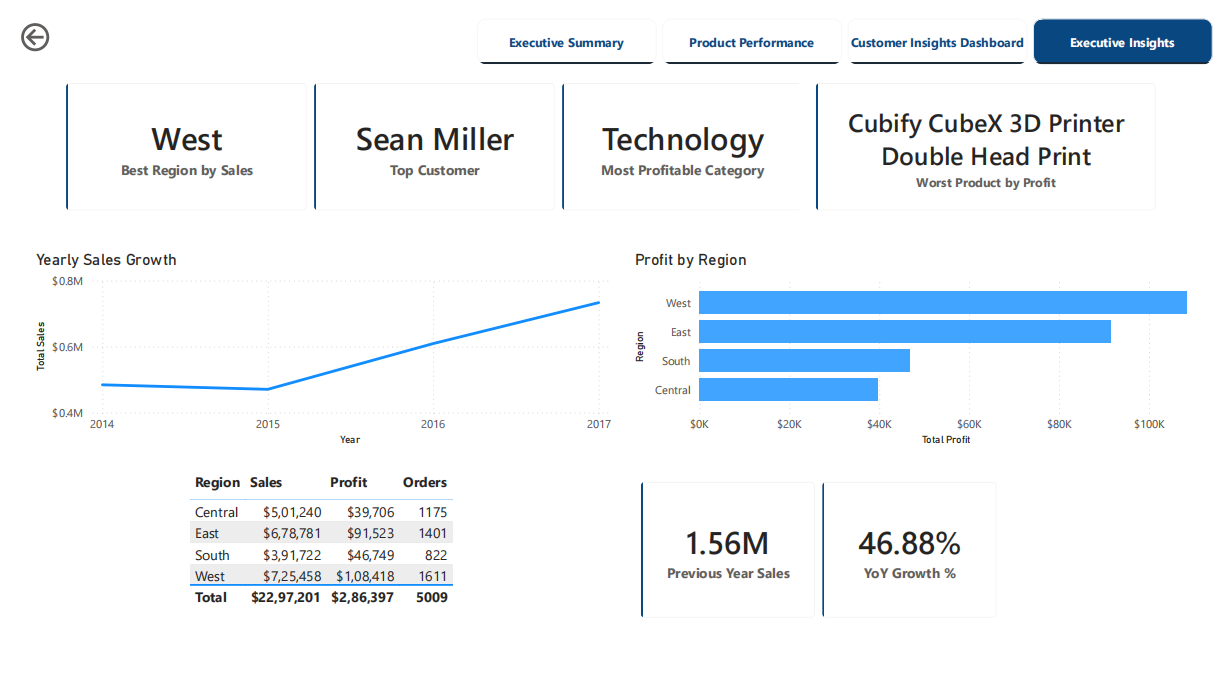

This screenshot's page, from the dashboard's own definition file:
{"tool":"powerbi","page":{"name":"Executive Insights","canvas":[1280,720],"ordinal":3},"visuals":[{"type":"cardVisual","fields":{"Data":["Orders.Best Region by Sales","Orders.Top Customers","Orders.Most Profitable Category"]},"box":[35.7,52.1,822,170.2],"z":0},{"type":"cardVisual","fields":{"Data":["Orders.Worst Product by Profit"]},"box":[837.1,52.1,397.9,170.2],"z":1000},{"type":"lineChart","title":"Yearly Sales Growth","fields":{"Category":["Date Table.Year"],"Y":["Orders.Total Sales"]},"box":[15.7,247.1,624.3,214.3],"z":2000},{"type":"barChart","title":"Profit by Region","fields":{"Category":["Regions.Region"],"Y":["Orders.Total Profit"]},"box":[655.9,247,624.4,214.1],"z":3000},{"type":"tableEx","fields":{"Values":["Regions.Region","Orders.Total Sales","Orders.Total Profit","Orders.Total Orders"]},"box":[179.8,477.5,296.4,212.7],"z":4000},{"type":"actionButton","box":[0,0,100,40],"z":5000},{"type":"cardVisual","fields":{"Data":["Orders.Previous Year Sales","Orders.YoY Growth %"]},"box":[650.4,477.5,414.4,179.8],"z":6000},{"type":"pageNavigator","box":[492.3,0,787.7,49.4],"z":6001}]}

Visuals, with their boxes in screenshot pixels (x1, y1, x2, y2), scaled from the page's 1280x720 canvas onto the 1227x696 screenshot:
cardVisual - Orders.Best Region by Sales x Orders.Top Customers: box(34, 50, 822, 215)
cardVisual - Orders.Worst Product by Profit: box(802, 50, 1184, 215)
"Yearly Sales Growth" lineChart: box(15, 239, 614, 446)
"Profit by Region" barChart: box(629, 239, 1226, 446)
tableEx - Regions.Region x Orders.Total Sales: box(172, 462, 456, 667)
actionButton: box(0, 0, 96, 39)
cardVisual - Orders.Previous Year Sales x Orders.YoY Growth %: box(623, 462, 1021, 635)
pageNavigator: box(472, 0, 1226, 48)
